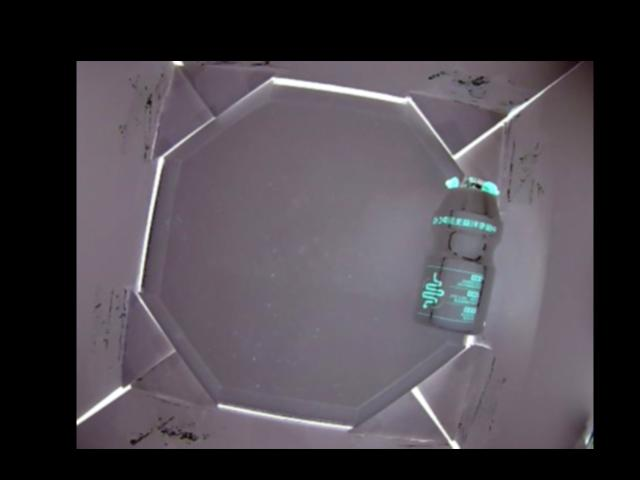Bottle: (414, 171, 502, 339)
